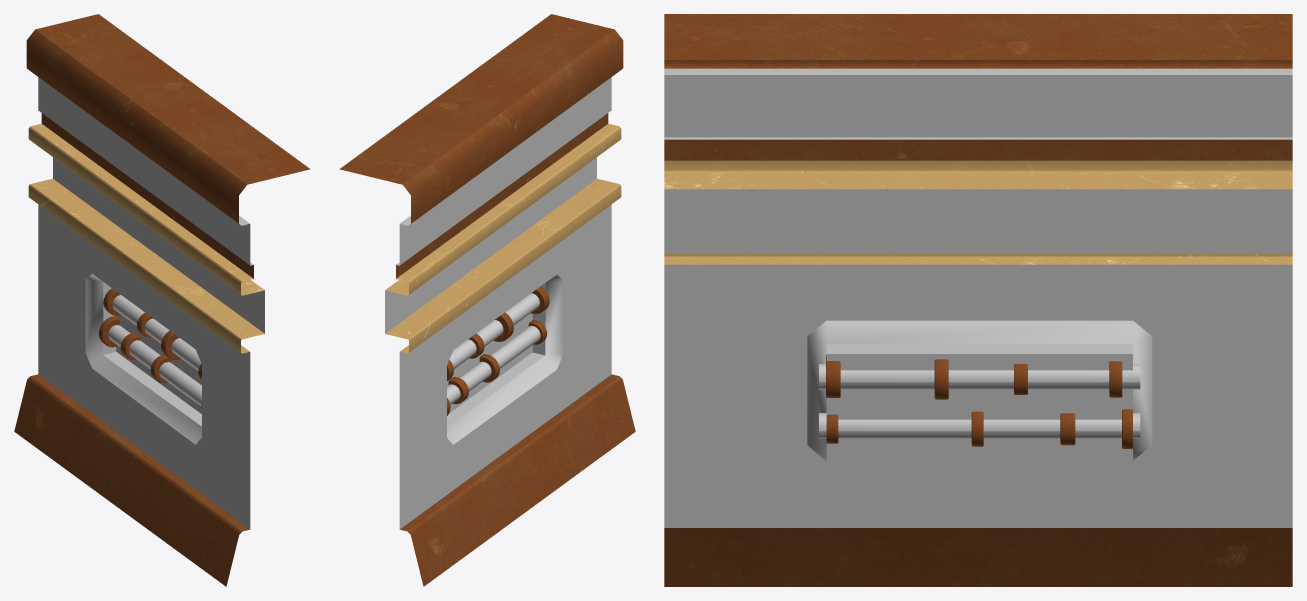
File: Wall_03.fbx
The picture shows the model from 3 angles, left to right: view 1: azimuth 30°, elevation 25°; view 2: azimuth 150°, elevation 25°; view 3: azimuth 270°, elevation 25°; orthographic projection. The views are drawn at different scales.
Parts seen in each view (by area): view 1: Wall_03; view 2: Wall_03; view 3: Wall_03.
Boxes of the visible parts, x1=… form: Wall_03: x1=14, y1=14, x2=310, y2=586; Wall_03: x1=339, y1=14, x2=635, y2=586; Wall_03: x1=664, y1=14, x2=1292, y2=586.
Bounding box in the file's own units: 67.44 × 304 × 294.
